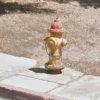Hydrant: (34, 13, 70, 78)
